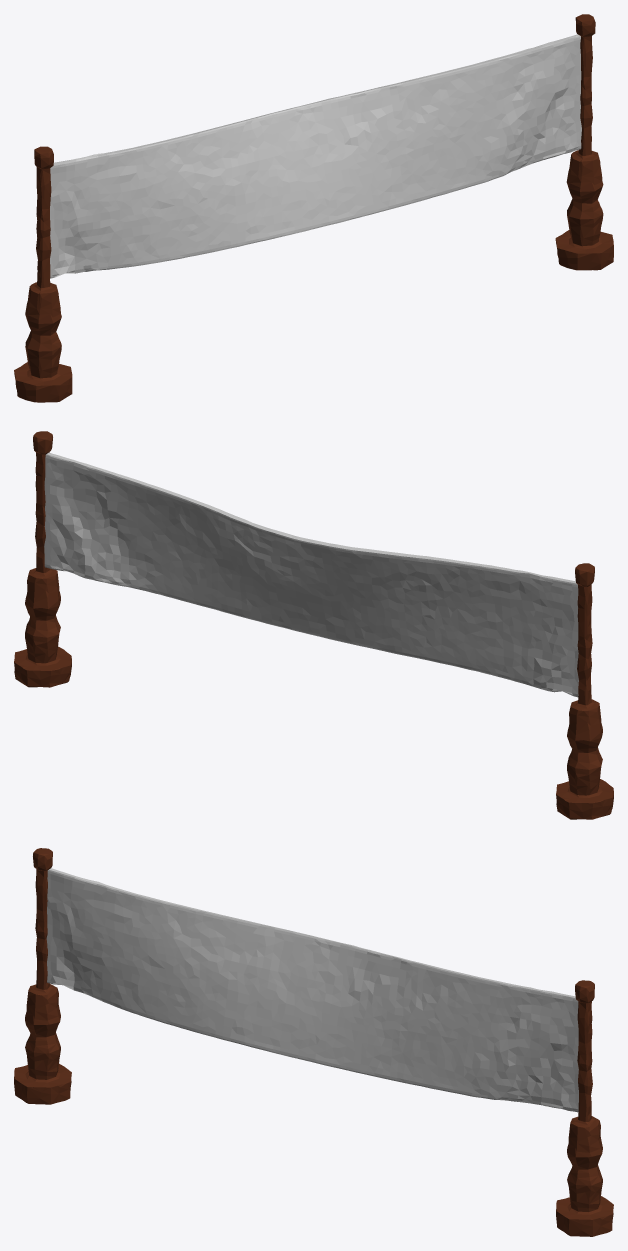
Rendered from DesertLandSnakeFlag0235.obj.
3 views of the same model, one above another, from view 1: azimuth 30°, elevation 25°; view 2: azimuth 150°, elevation 25°; view 3: azimuth 330°, elevation 25° (orthographic).
Visible parts, largest first — view 1: Cube.003, Cube, Cube.002; view 2: Cube.003, Cube, Cube.002; view 3: Cube.003, Cube.002, Cube.
Part boxes in pixels (x1,y1,x2,y2): Cube.003: (50,34,581,278); Cube: (14,146,72,402); Cube.002: (555,14,613,270); Cube.003: (44,452,578,697); Cube: (556,563,613,819); Cube.002: (14,431,71,687); Cube.003: (46,868,578,1112); Cube.002: (556,980,613,1236); Cube: (14,848,71,1104).
Size of the model in its own units: 27.57 by 10.7 by 2.57.
